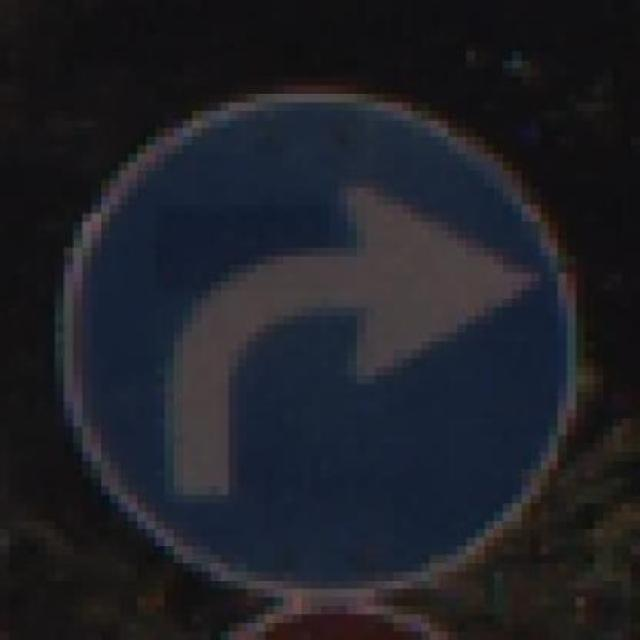Turn right ahead: (36, 85, 613, 598)
